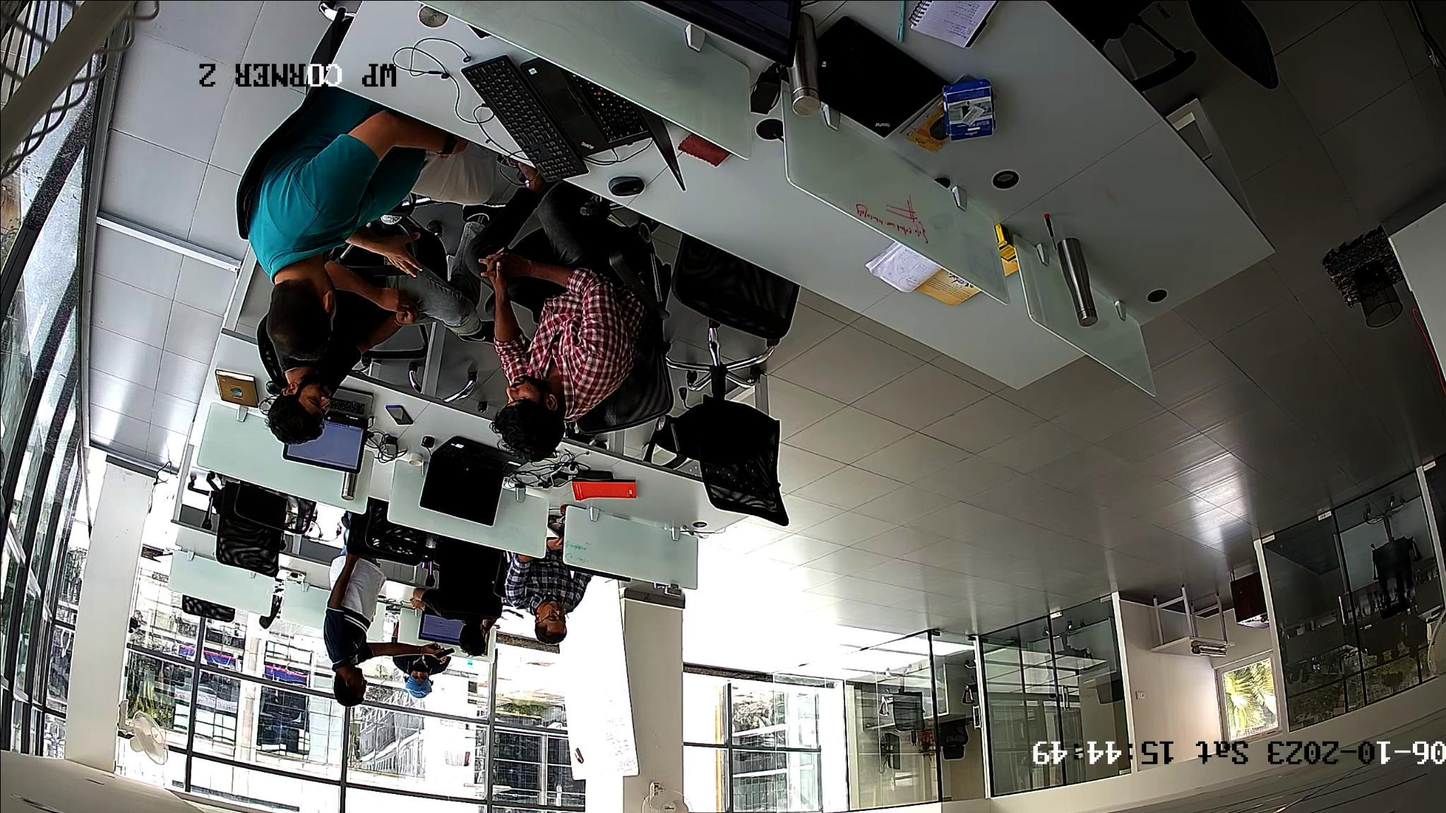gun: (430, 644, 454, 659)
